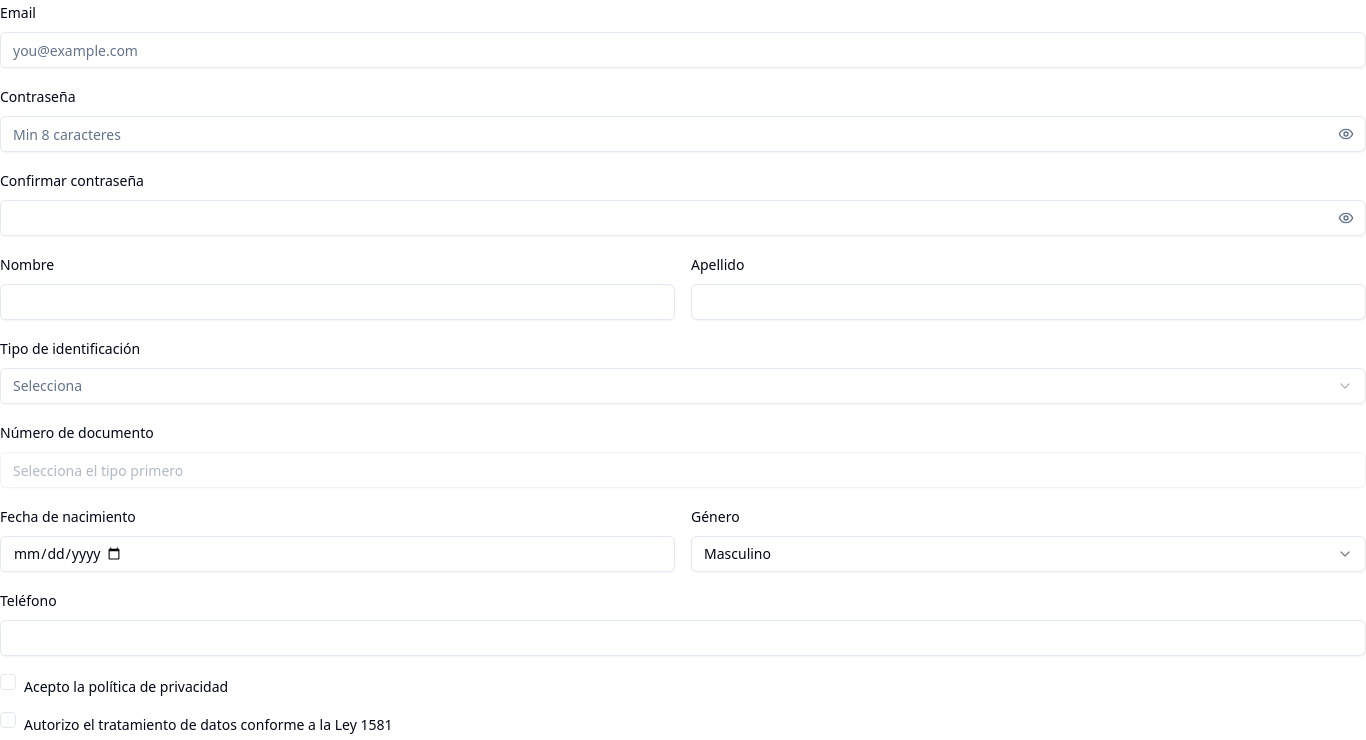
PatientRegistrationForm › Validación del formulario › debe validar email inválido
Type "invalid-email" into the field labelled "Email" at [683, 50], box [0,32,1365,68]
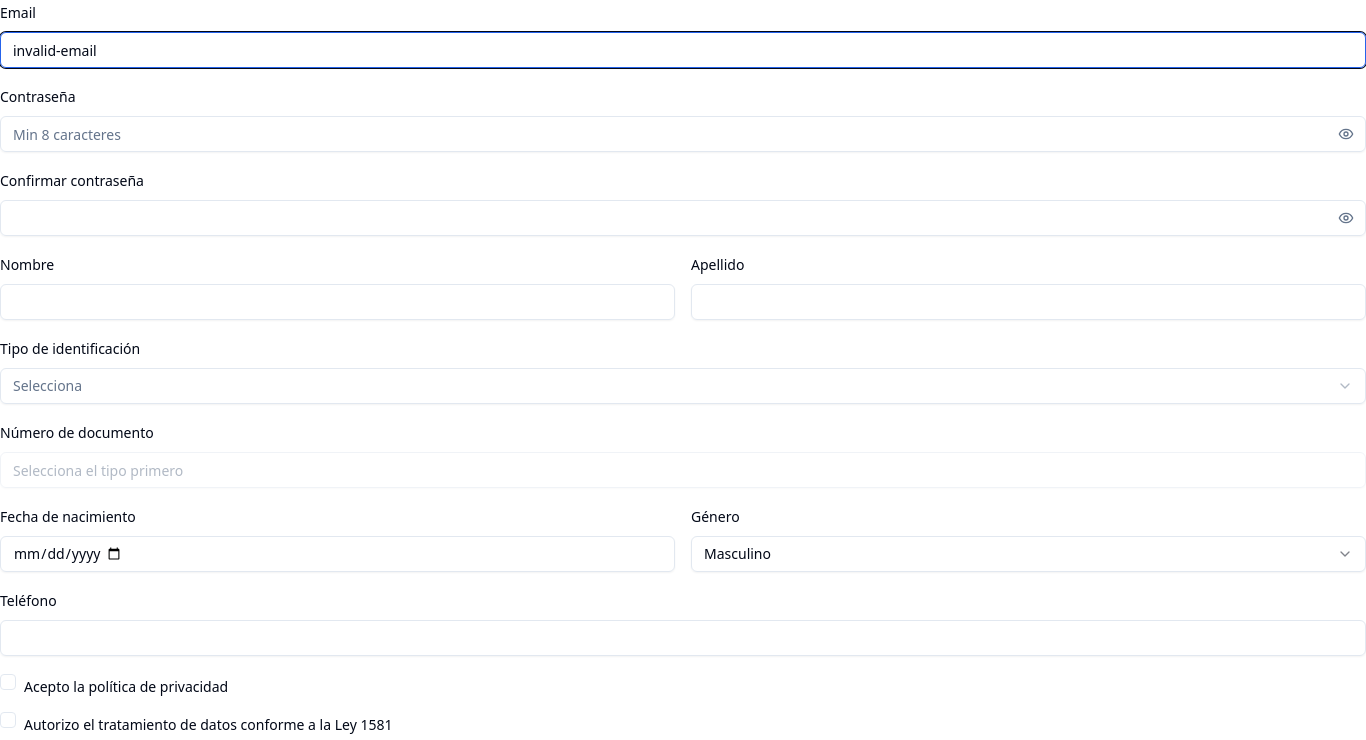
Press Tab
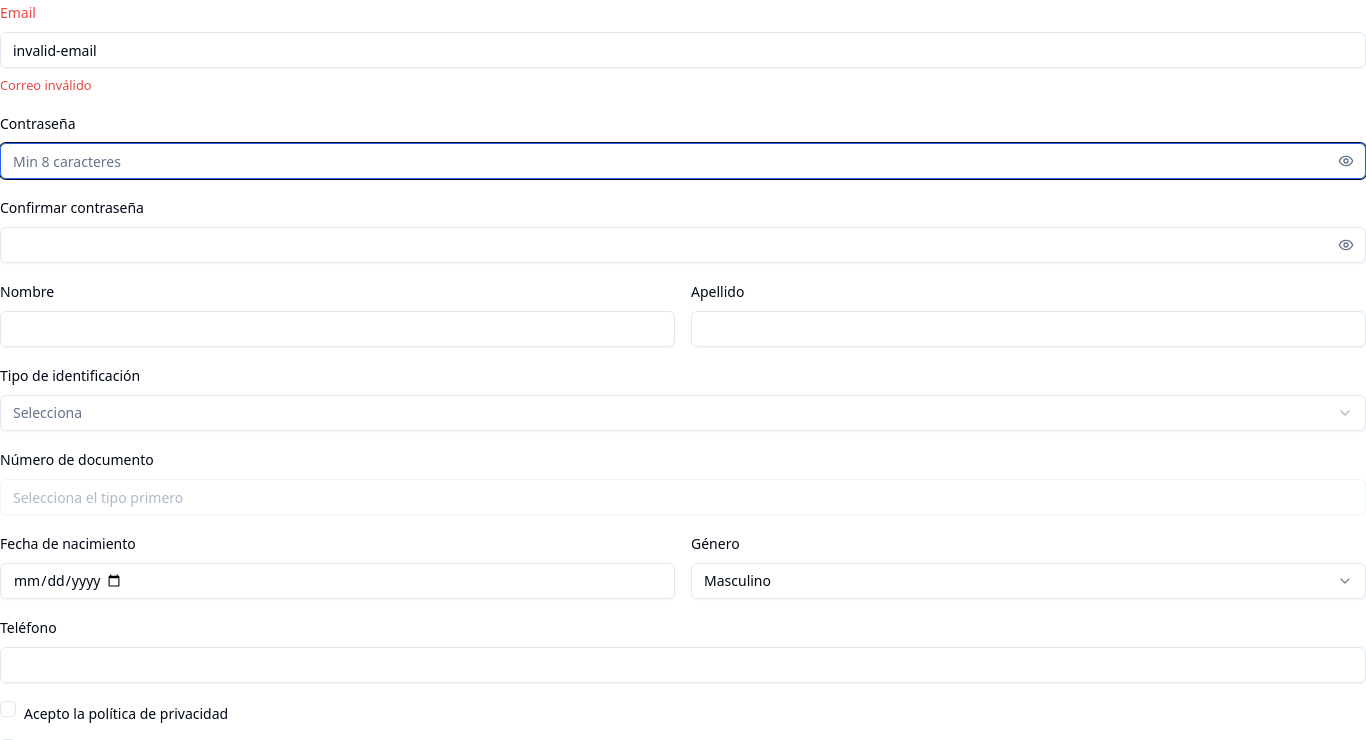
Now the text "Correo inválido" is shown, box [0,76,92,94]
